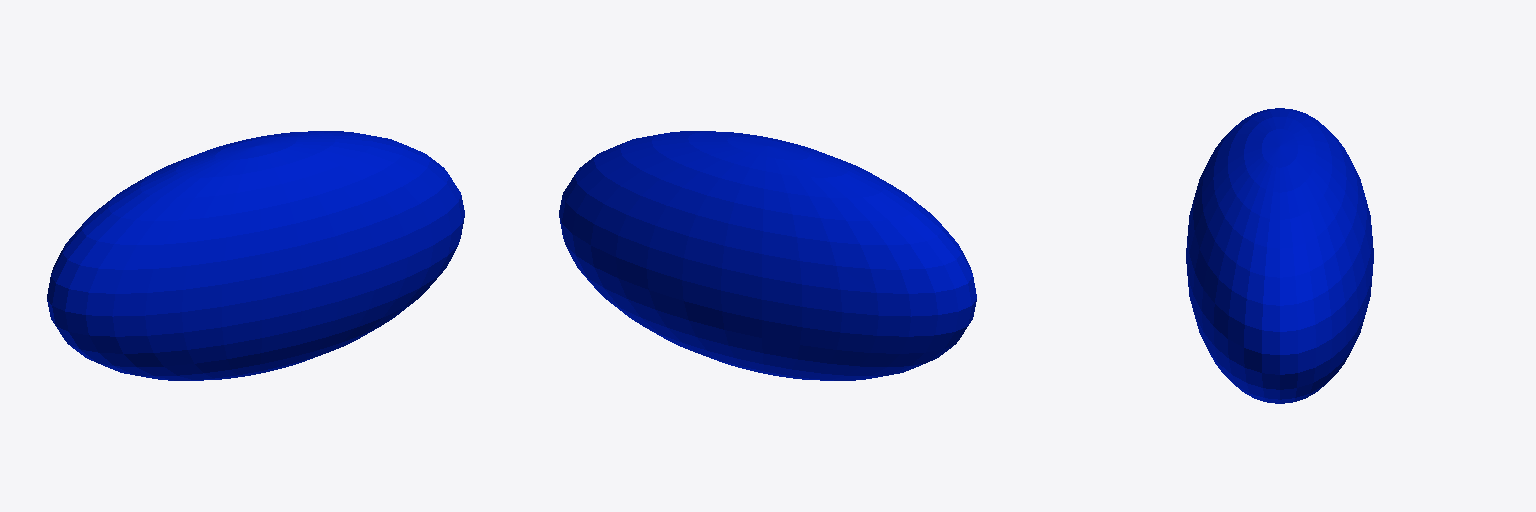
File: moya_aircon_b.obj
3 views of the same model, side by side, from view 1: azimuth 30°, elevation 25°; view 2: azimuth 150°, elevation 25°; view 3: azimuth 270°, elevation 25° (orthographic).
Parts seen in each view (by area): view 1: Sphere_Sphere.000_Sphere_Sphere.003; view 2: Sphere_Sphere.000_Sphere_Sphere.003; view 3: Sphere_Sphere.000_Sphere_Sphere.003.
Part boxes in pixels (x1,y1,x2,y2): Sphere_Sphere.000_Sphere_Sphere.003: (47, 131, 464, 380); Sphere_Sphere.000_Sphere_Sphere.003: (559, 131, 976, 380); Sphere_Sphere.000_Sphere_Sphere.003: (1186, 108, 1373, 403).
Size of the model in its own units: 0.9189 by 0.4726 by 0.3675.